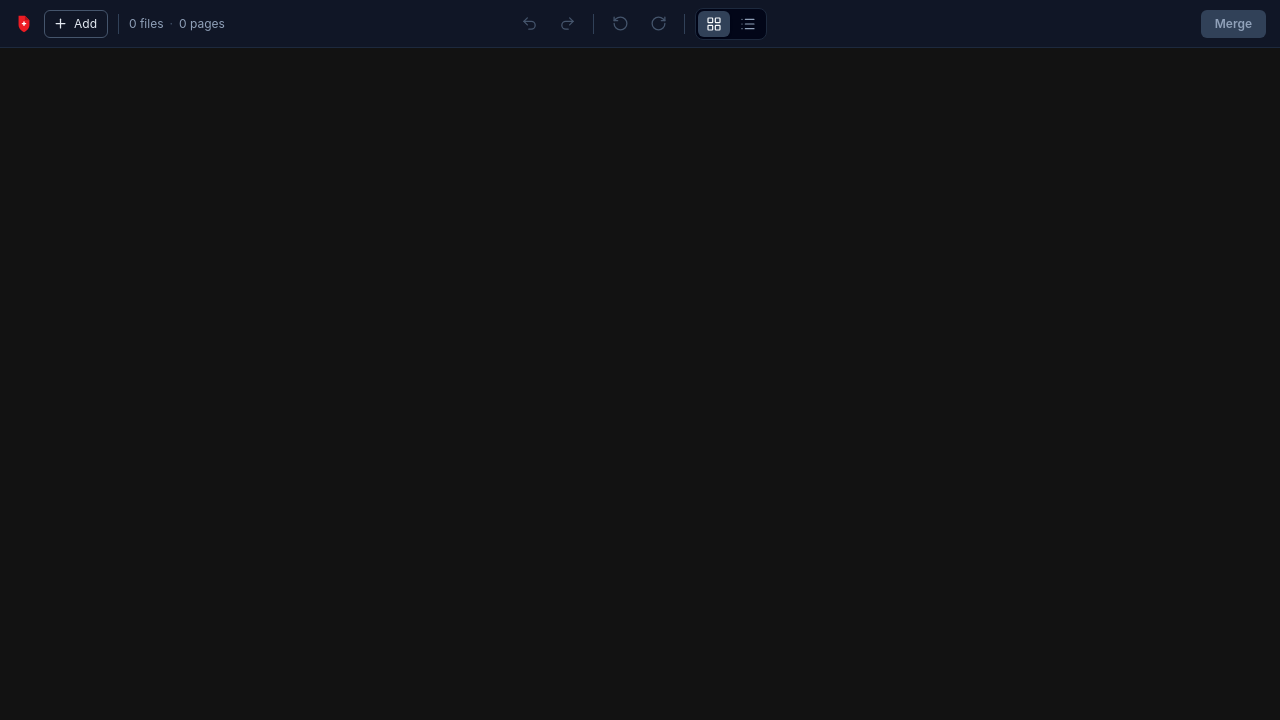
Test: Toolbar › closes the menu on a mousedown outside it, leaving the focus alone
The image size is (1280, 720).
Click the button "Add" at [76, 24], box [44,10,108,38]
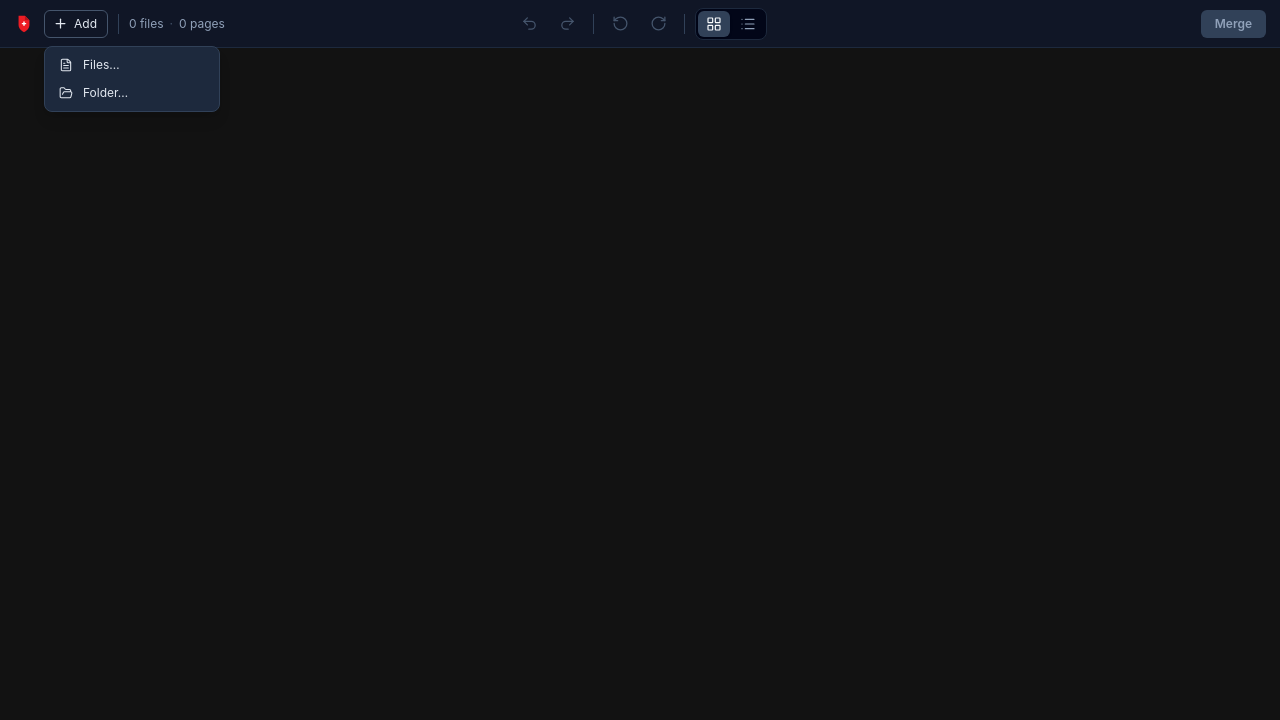
Press the mouse on the element showing "Add Files… Folder… 0 files·0 pages Merge" at [640, 360], box [0,0,1279,719]
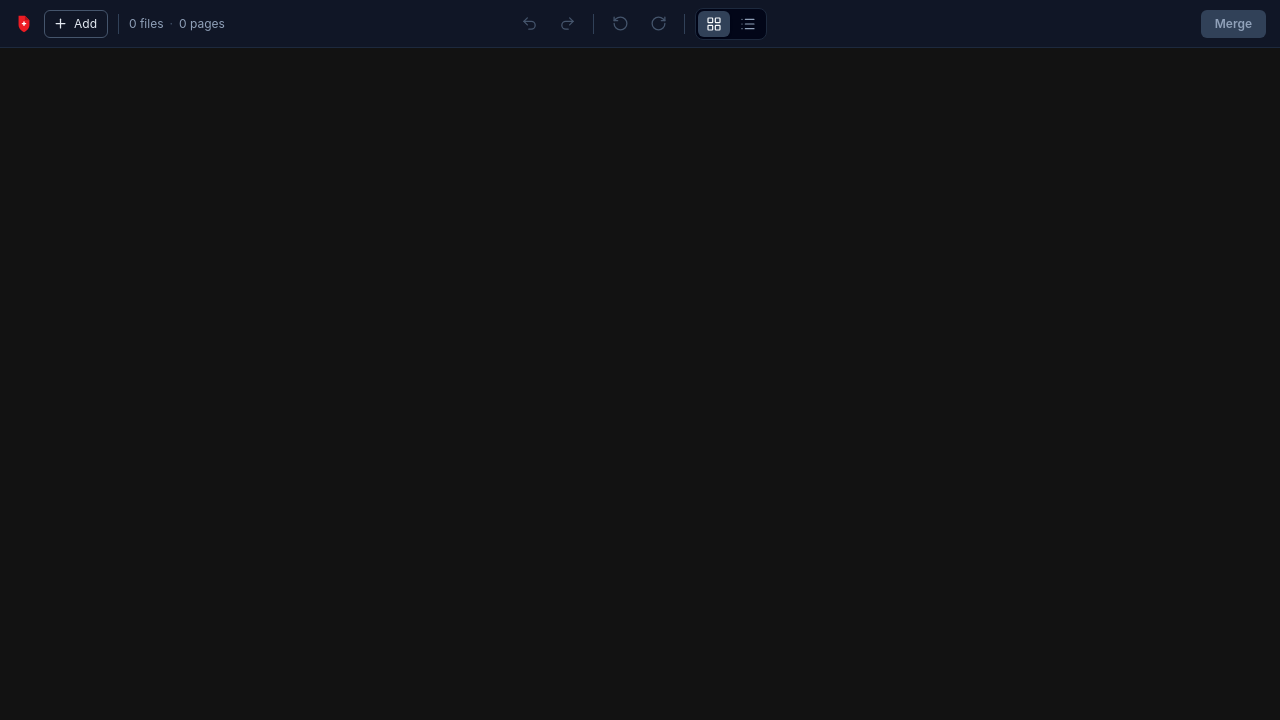
Check: the menu is gone
